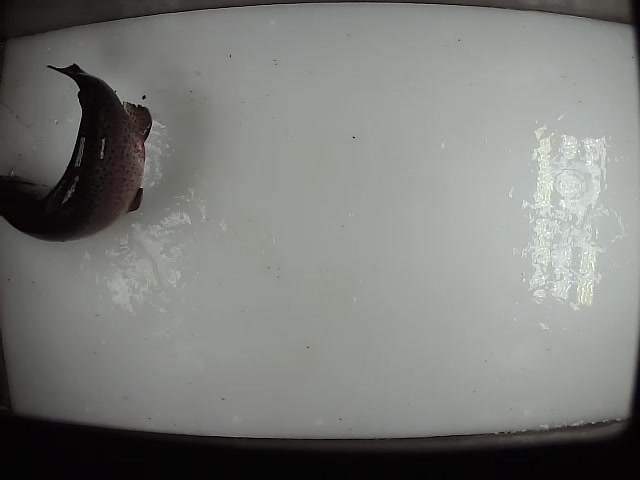fish: (1, 62, 155, 245)
